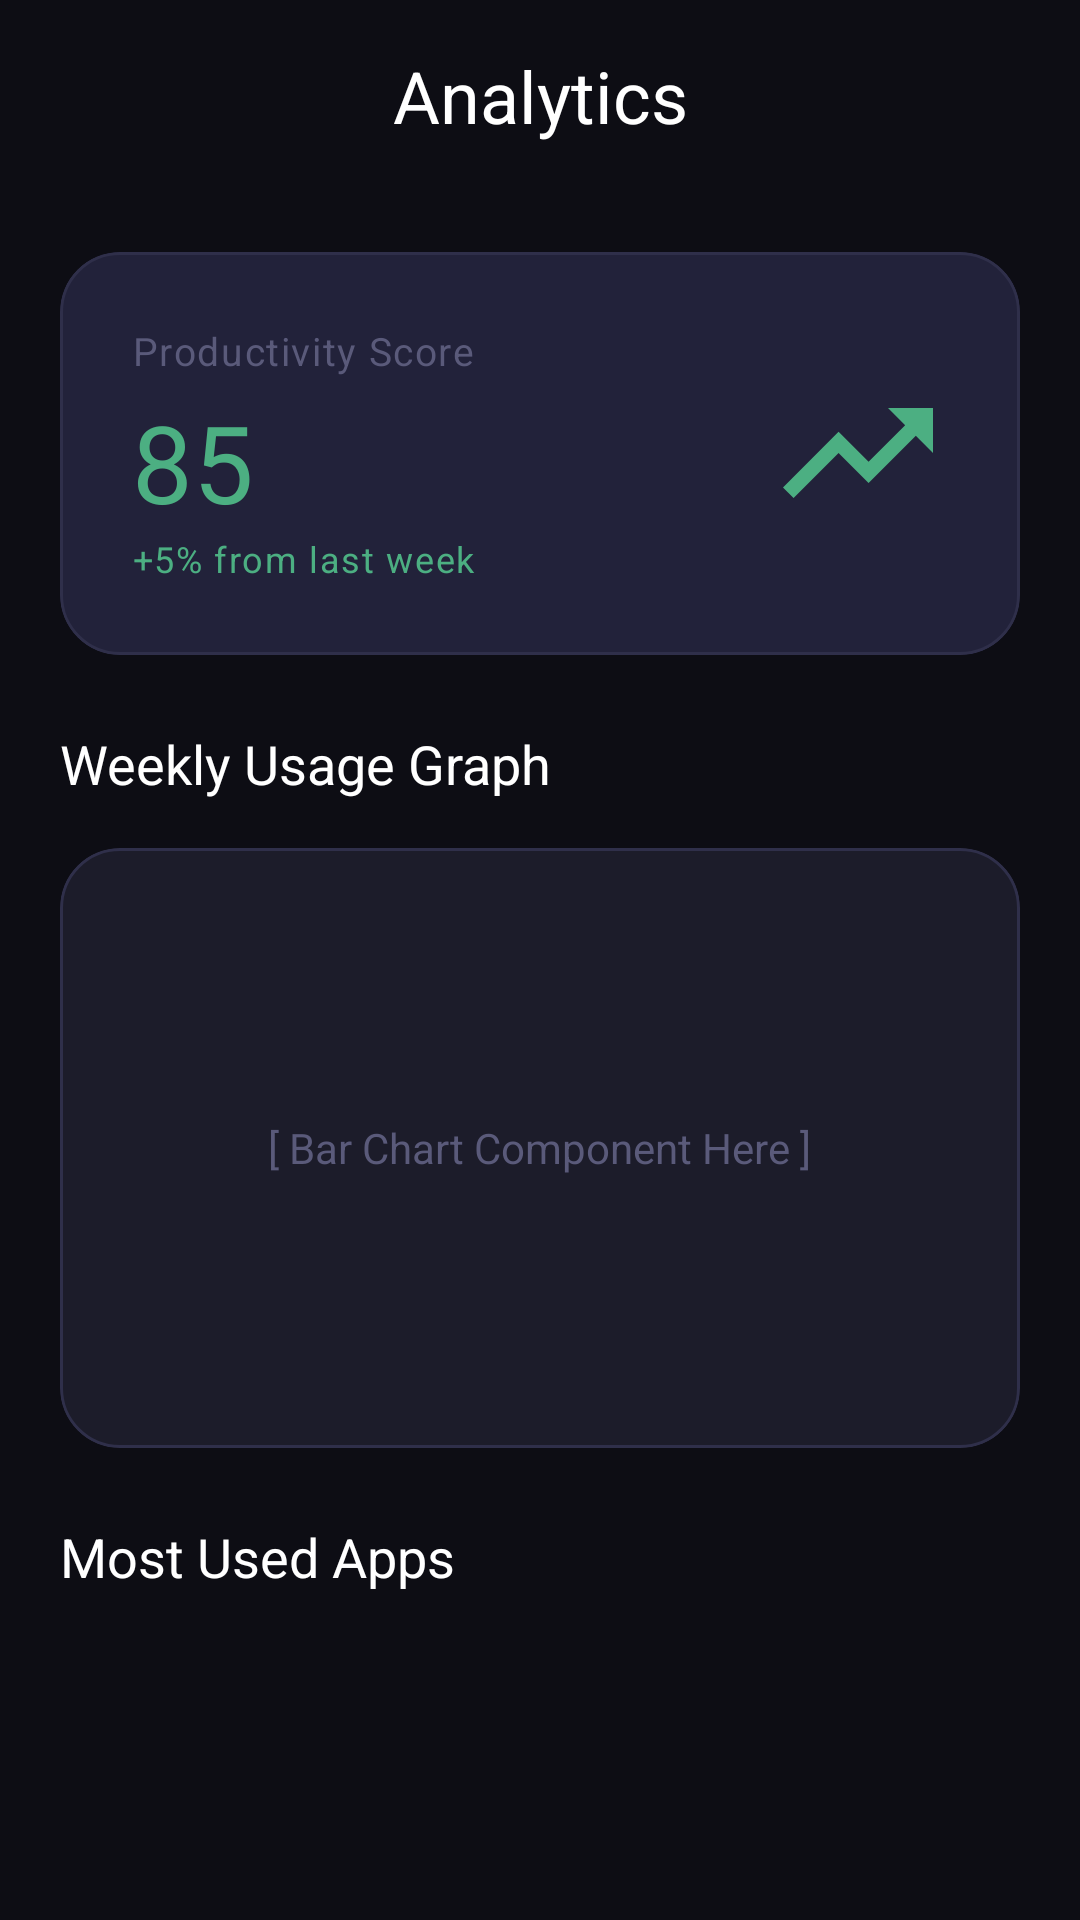

Named icons in this screenshot (1080x1920) and their bounding boxes, [x1, y1, x2, y2]:
trending up: [783, 408, 933, 498]
